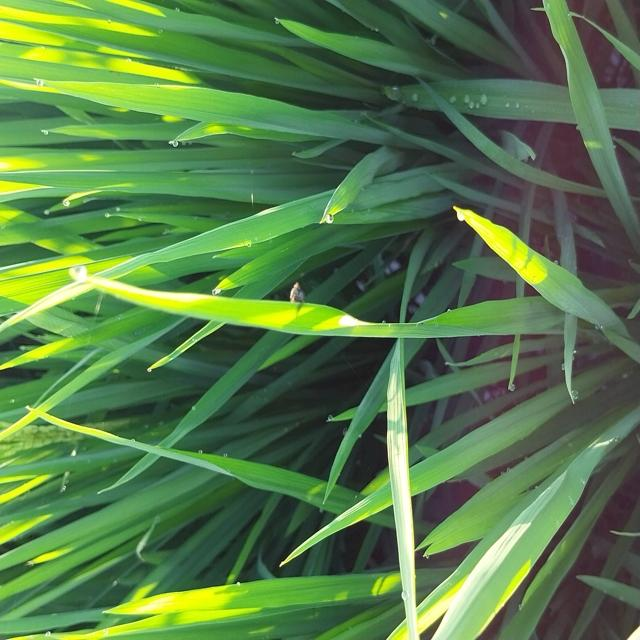healthy: (283, 267, 312, 316)
